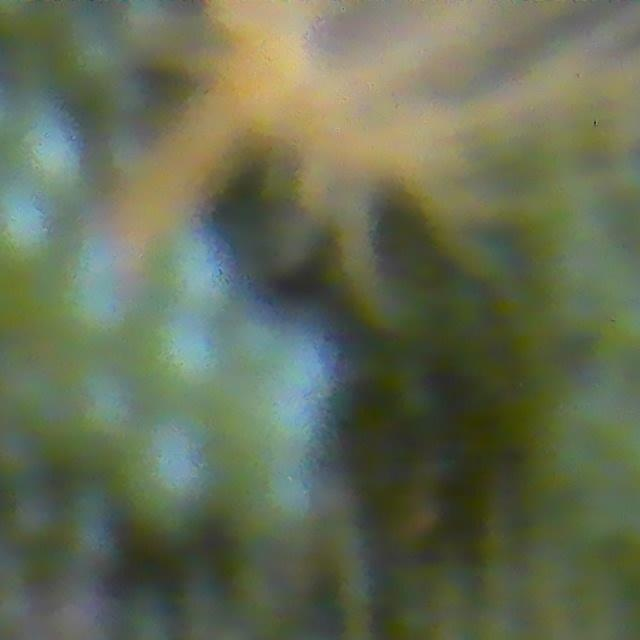SeaGrape: (115, 418, 205, 537), (40, 256, 131, 349), (252, 333, 333, 428), (138, 313, 223, 398), (4, 114, 86, 193), (167, 228, 243, 309), (66, 366, 140, 447)
